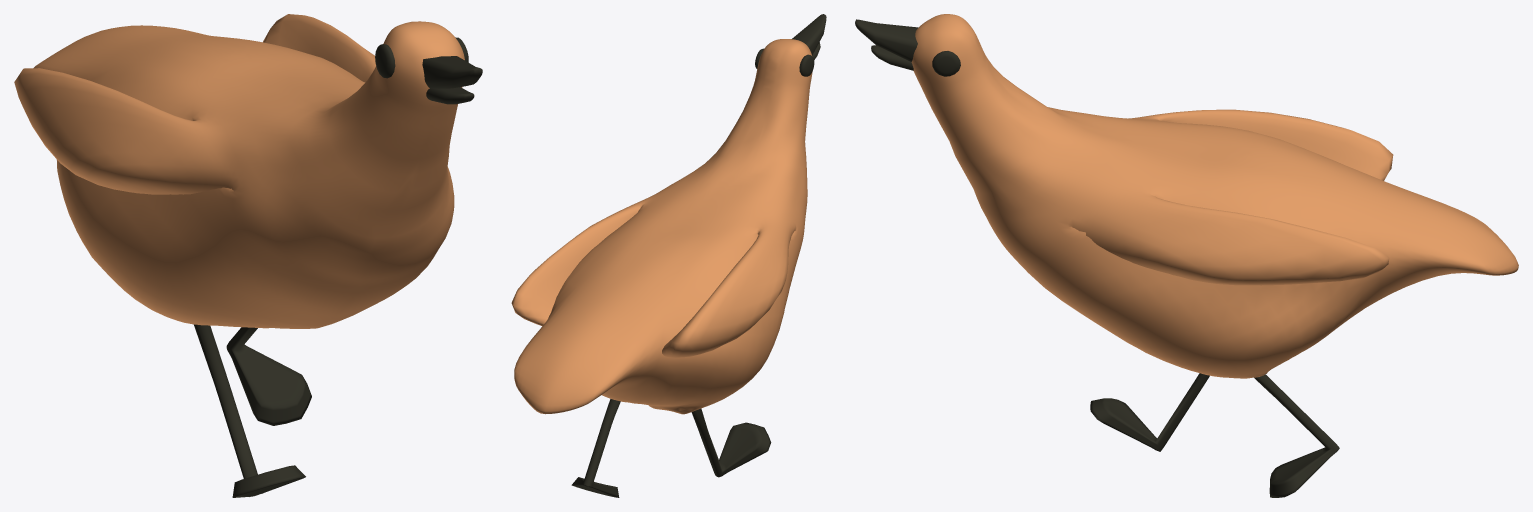
The model's file is DuckModel.fbx.
The picture shows the model from 3 angles, left to right: view 1: azimuth 30°, elevation 25°; view 2: azimuth 150°, elevation 25°; view 3: azimuth 270°, elevation 25°; orthographic projection. The views are drawn at different scales.
Visible parts, largest first — view 1: Cube.011; view 2: Cube.011; view 3: Cube.011.
Boxes of the visible parts, x1=… form: Cube.011: x1=14, y1=14, x2=482, y2=497; Cube.011: x1=511, y1=14, x2=826, y2=497; Cube.011: x1=855, y1=14, x2=1518, y2=497.
Bounding box in the file's own units: 484 × 809 × 1093.
